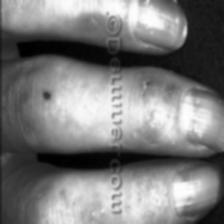Unclassified: (140, 72, 156, 100), (164, 78, 178, 96), (40, 88, 50, 108)
